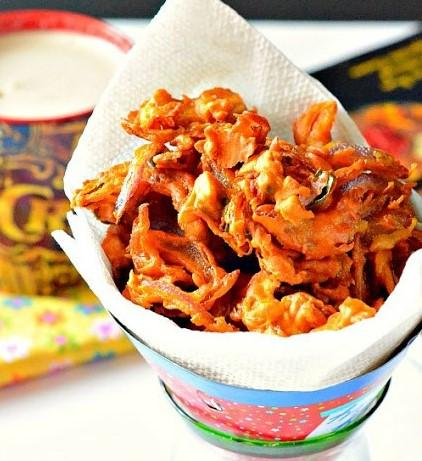OnionPakoda: (70, 85, 419, 337)
